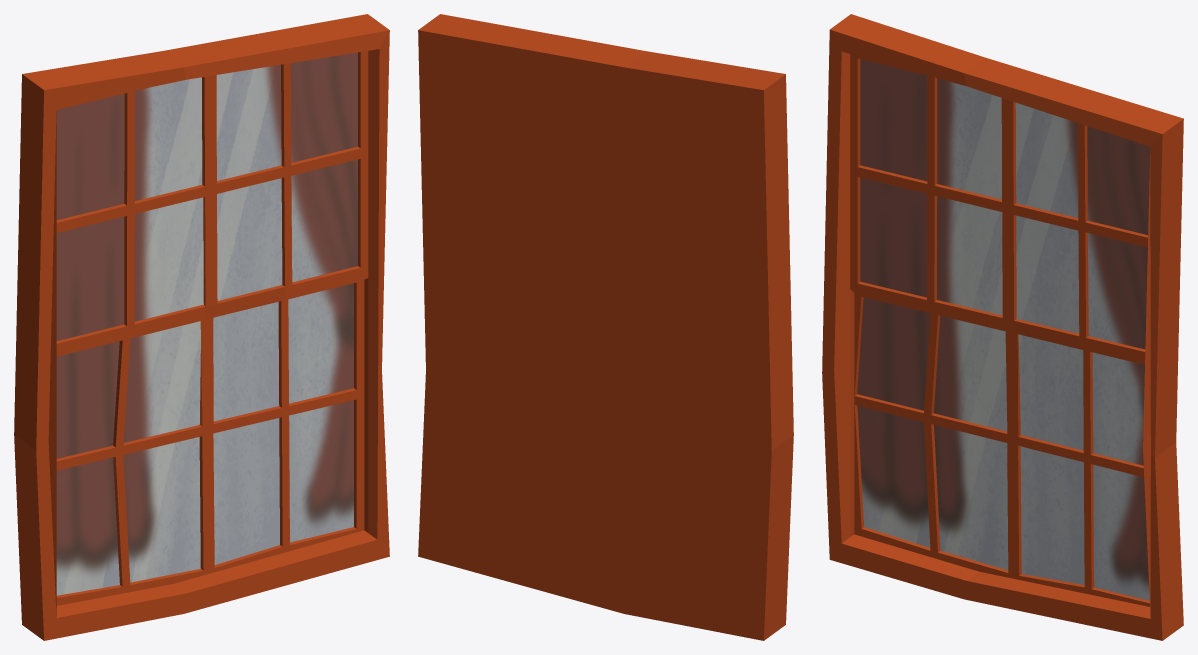
The model's file is Window1.fbx.
The picture shows the model from 3 angles, left to right: view 1: azimuth 30°, elevation 25°; view 2: azimuth 150°, elevation 25°; view 3: azimuth 330°, elevation 25°; orthographic projection. The views are drawn at different scales.
Parts seen in each view (by area): view 1: Cube.007; view 2: Cube.007; view 3: Cube.007.
Part boxes in pixels (box(x1,y1,x2,y2)): Cube.007: box(14, 14, 389, 640); Cube.007: box(418, 14, 793, 640); Cube.007: box(822, 14, 1183, 640).
Size of the model in its own units: 113 by 170 by 12.84.
